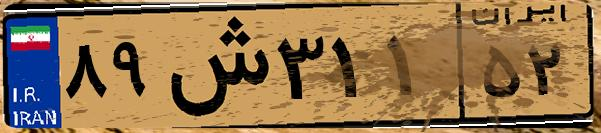1: (385, 28, 445, 110), (330, 28, 385, 110)
2: (525, 38, 570, 115)
3: (270, 28, 330, 110)
5: (475, 38, 525, 113)
8: (57, 26, 110, 100)
9: (110, 28, 158, 98)
ش: (158, 12, 270, 120)
